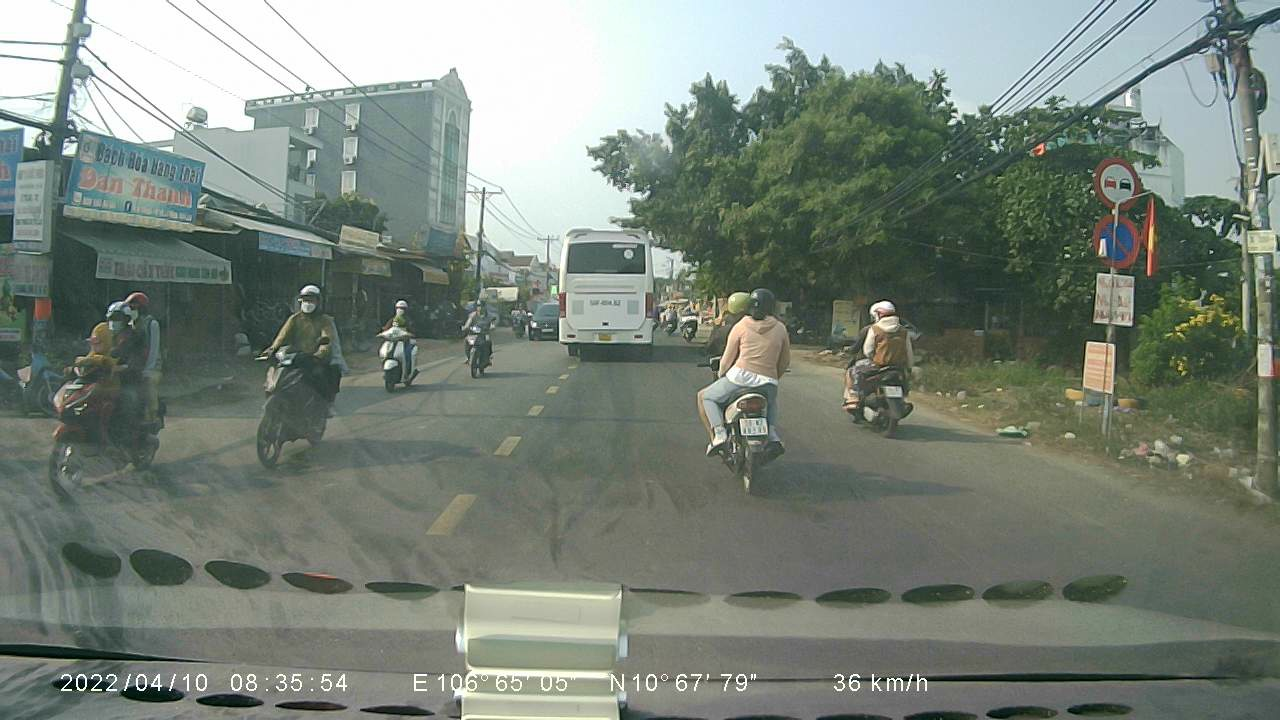Bien khac: (1091, 150, 1138, 211)
Cam do xe: (1091, 210, 1138, 266)
